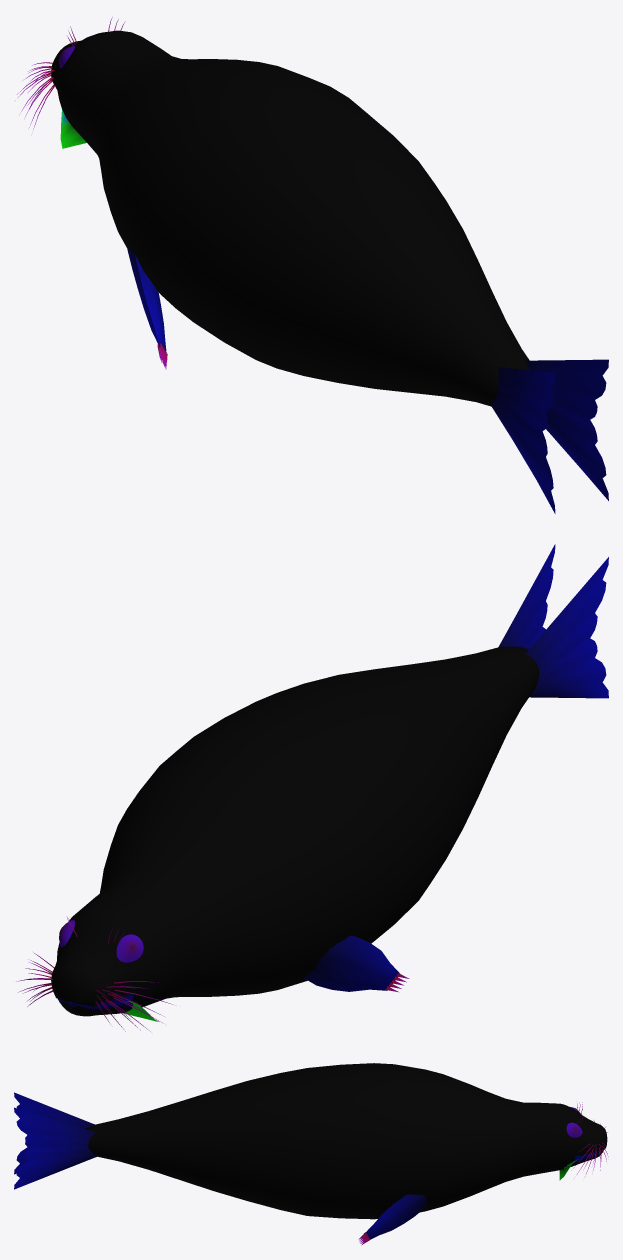
Rendered from harbor_seal_game.glb.
3 views of the same model, one above another, from view 1: azimuth 30°, elevation 25°; view 2: azimuth 150°, elevation 25°; view 3: azimuth 270°, elevation 25° (orthographic). The views are drawn at different scales.
Visible parts, largest first — view 1: harbor_seal_game; view 2: harbor_seal_game; view 3: harbor_seal_game.
Boxes of the visible parts, <box> form: harbor_seal_game: <box>15,17,608,513</box>; harbor_seal_game: <box>16,544,608,1031</box>; harbor_seal_game: <box>14,1063,608,1245</box>.
Size of the model in its own units: 0.4485 by 0.4176 by 1.6.
